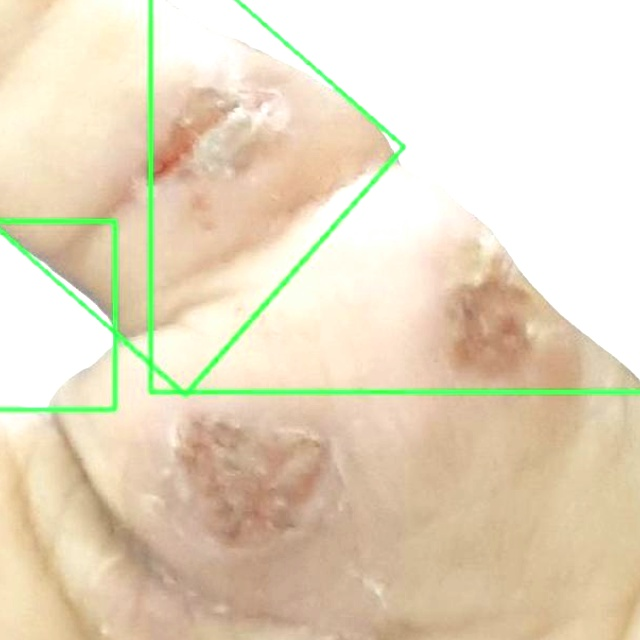Eczema: (150, 0, 639, 392), (0, 0, 404, 408), (0, 221, 114, 409)
